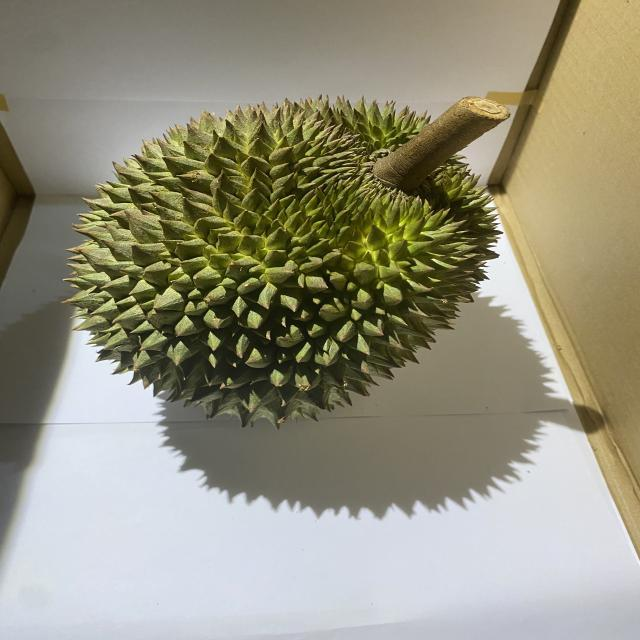immature: (60, 92, 506, 432)
